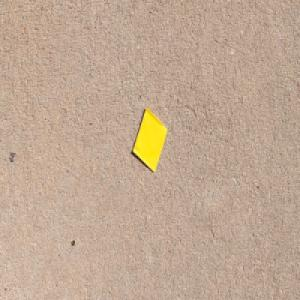PlasticPart: (131, 105, 168, 173)
